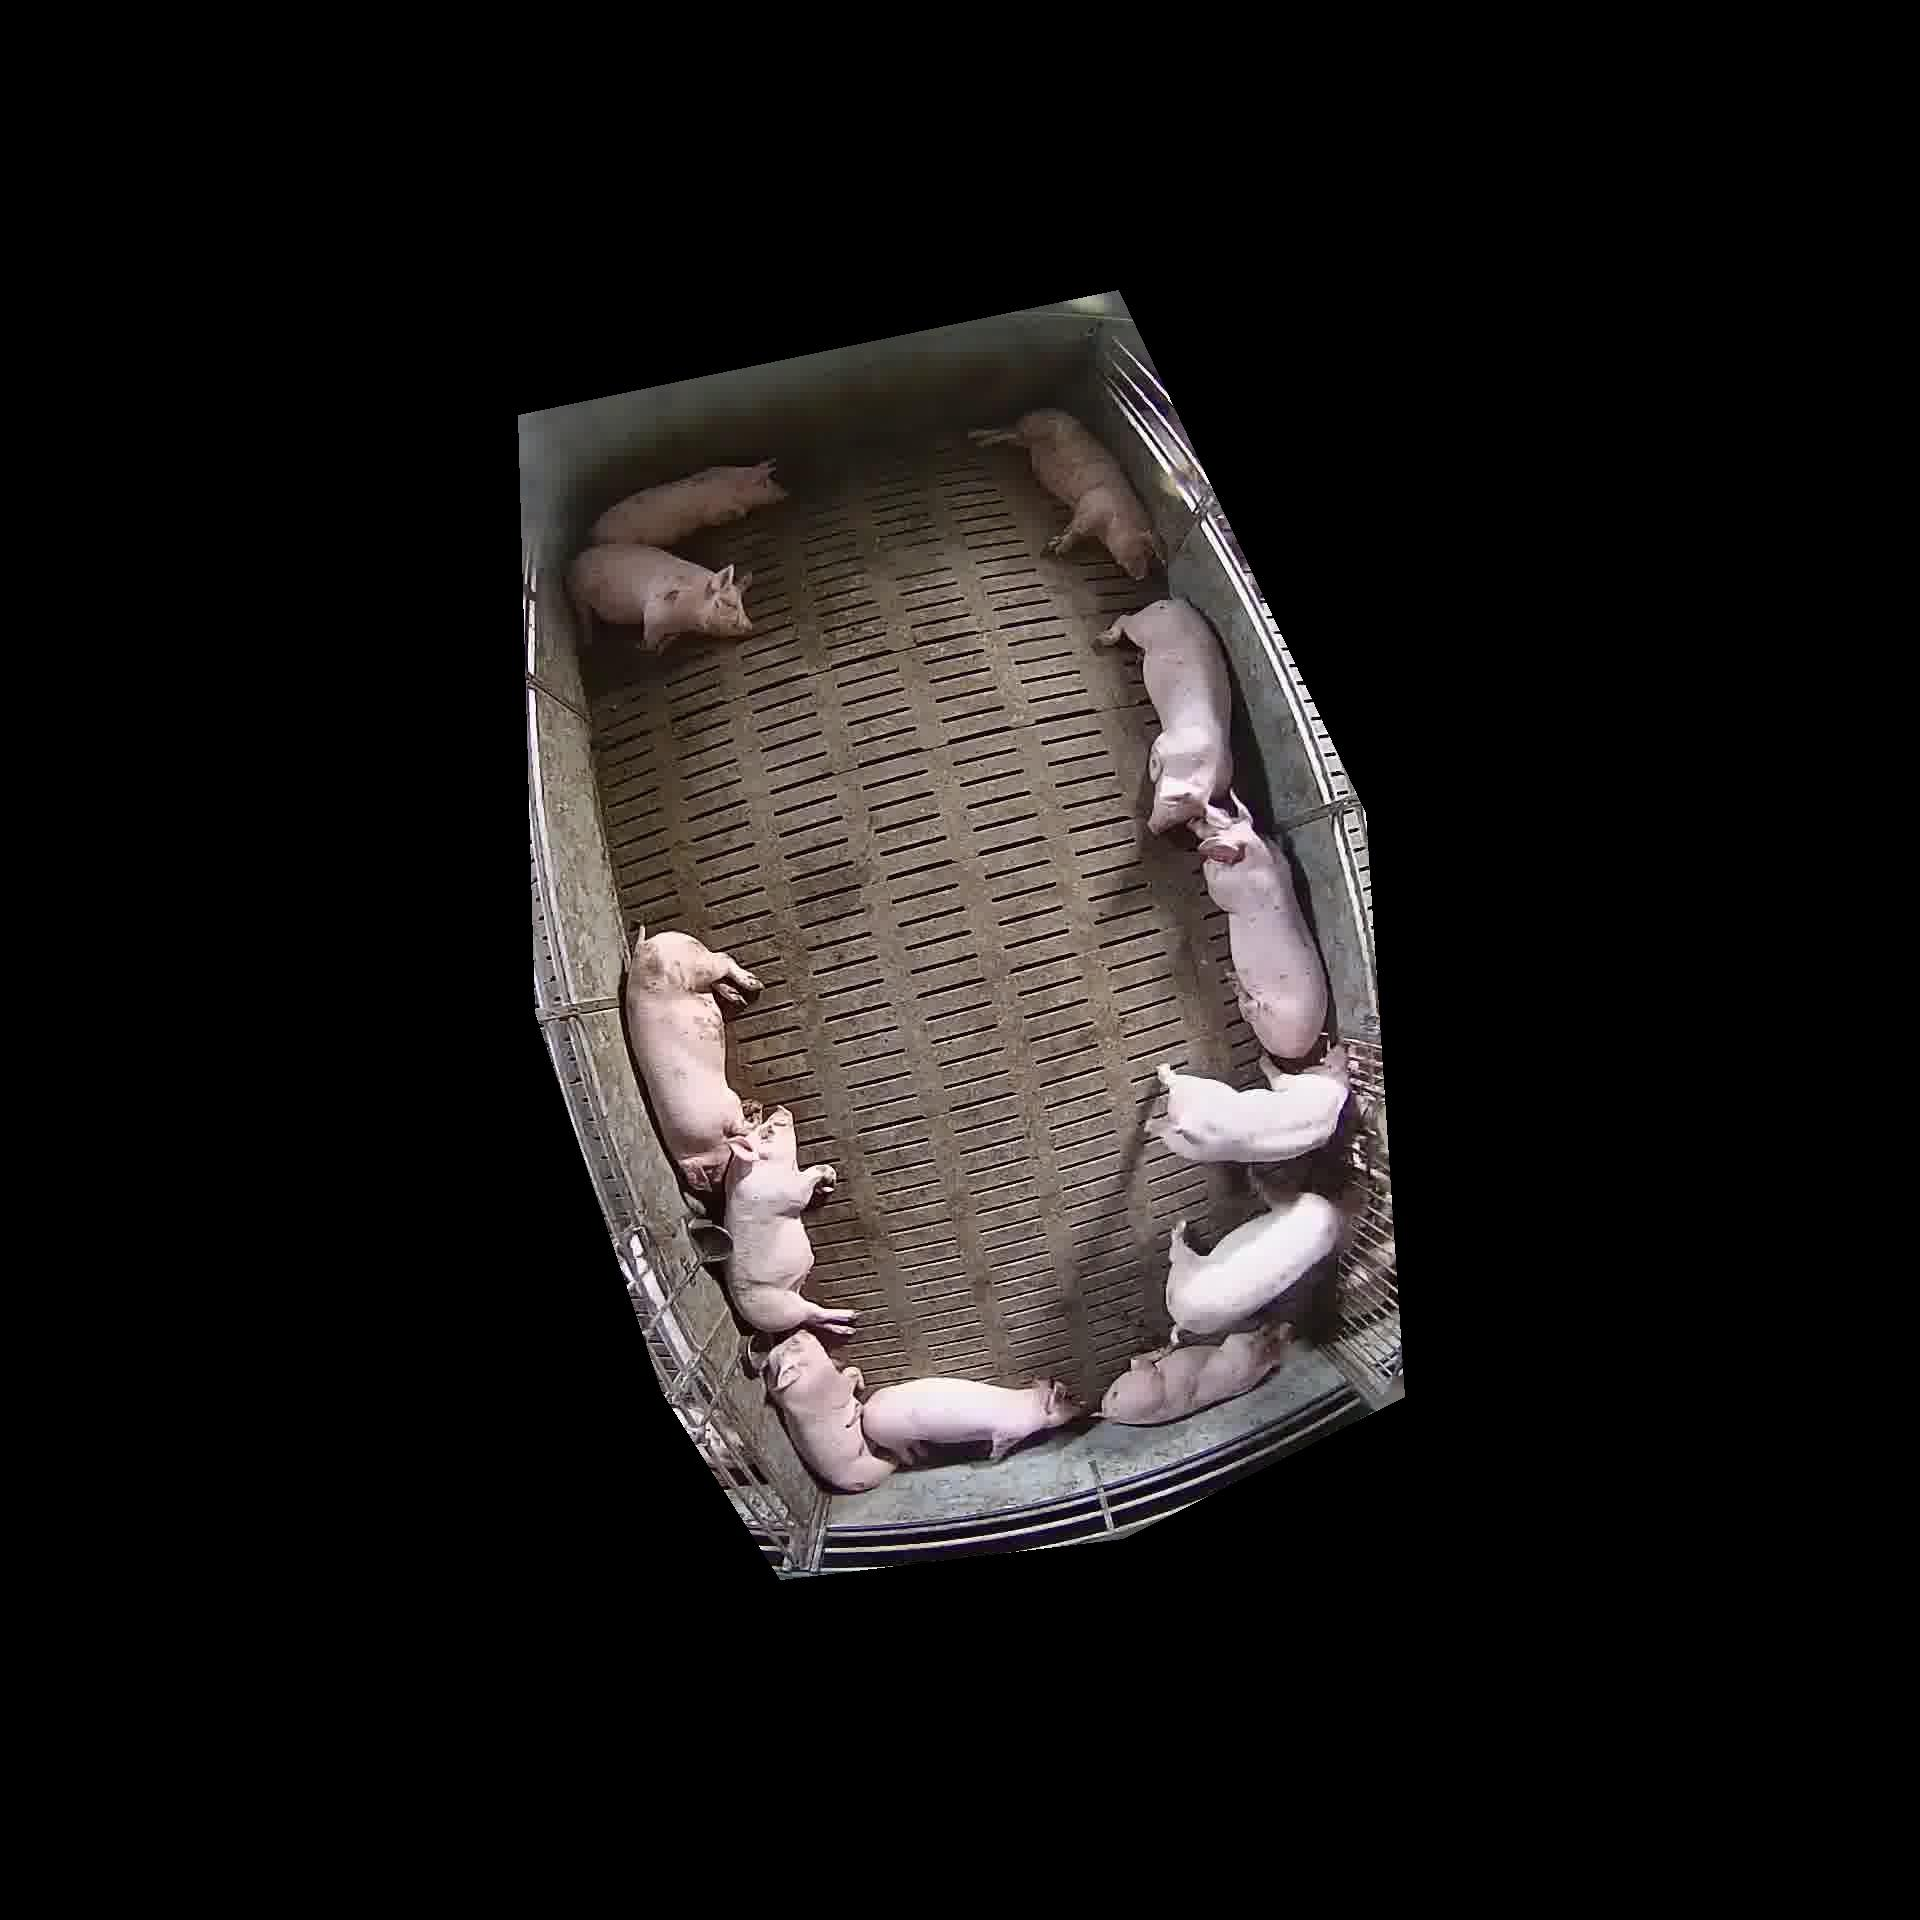pig: (625, 927, 760, 1190), (1193, 796, 1327, 1058), (1098, 598, 1232, 834), (970, 409, 1156, 579), (725, 1107, 855, 1333), (1166, 1192, 1341, 1334), (765, 1331, 895, 1492), (1146, 1065, 1348, 1162), (568, 543, 750, 650), (1100, 1323, 1290, 1424), (862, 1377, 1082, 1463), (591, 461, 785, 546)
